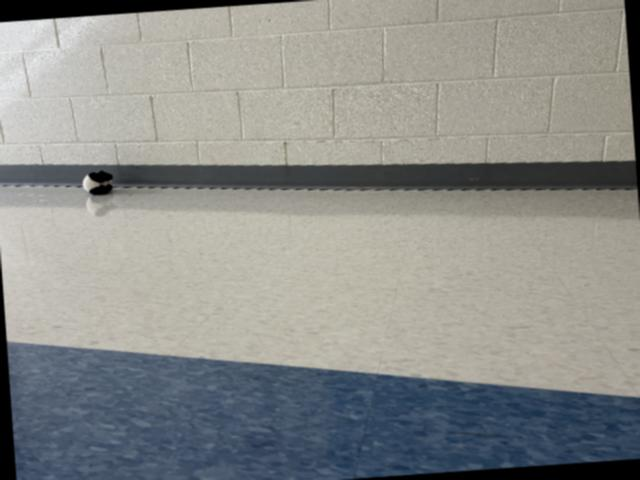panda_plushie: (81, 170, 114, 195)
